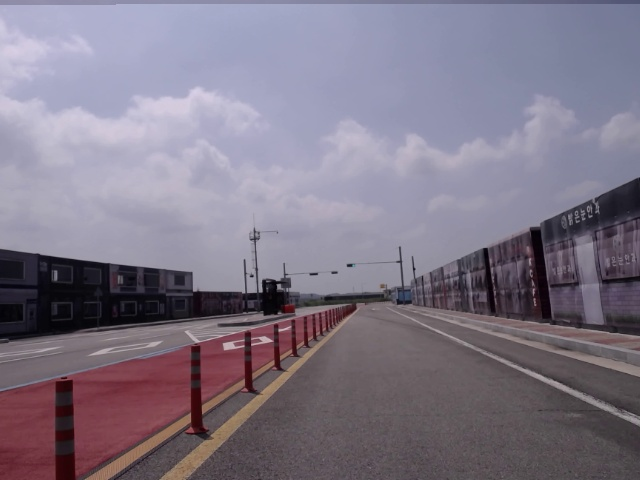green_3: (346, 263, 356, 269)
